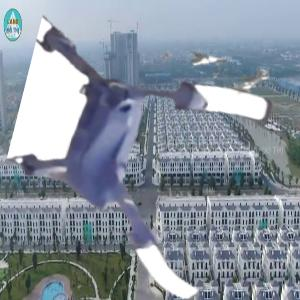drone: (9, 41, 268, 300)
